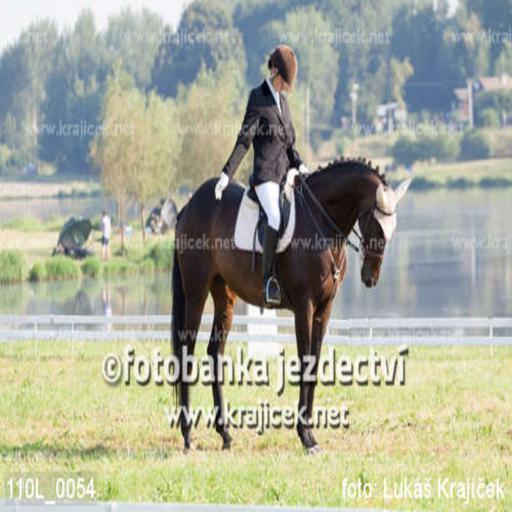horse: (168, 150, 412, 452)
